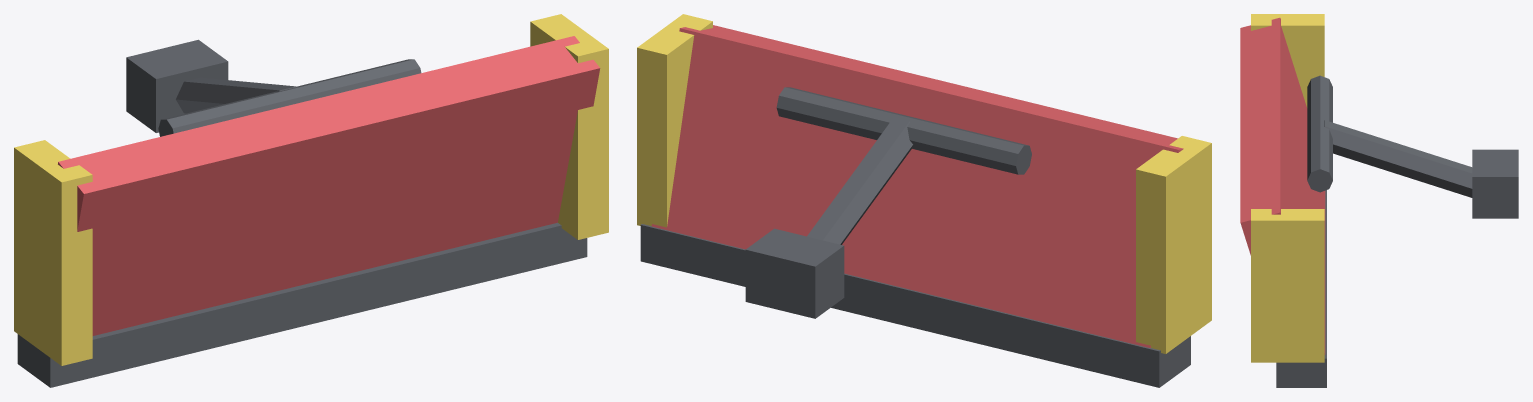
Rendered from blade.glb.
The picture shows the model from 3 angles, left to right: view 1: azimuth 30°, elevation 25°; view 2: azimuth 150°, elevation 25°; view 3: azimuth 270°, elevation 25°; orthographic projection. The views are drawn at different scales.
Parts seen in each view (by area): view 1: snow-plough-blade-attachment; view 2: snow-plough-blade-attachment; view 3: snow-plough-blade-attachment.
Part boxes in pixels (x1,y1,x2,y2): snow-plough-blade-attachment: (14,14,608,387); snow-plough-blade-attachment: (637,14,1211,387); snow-plough-blade-attachment: (1240,14,1518,387).
Bounding box in the file's own units: 1.06 × 0.4104 × 0.6029.
